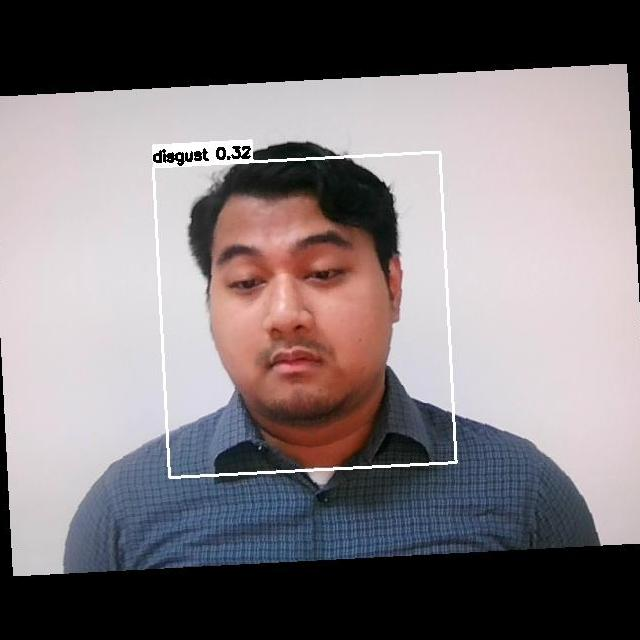Fear: (192, 231, 395, 401)
